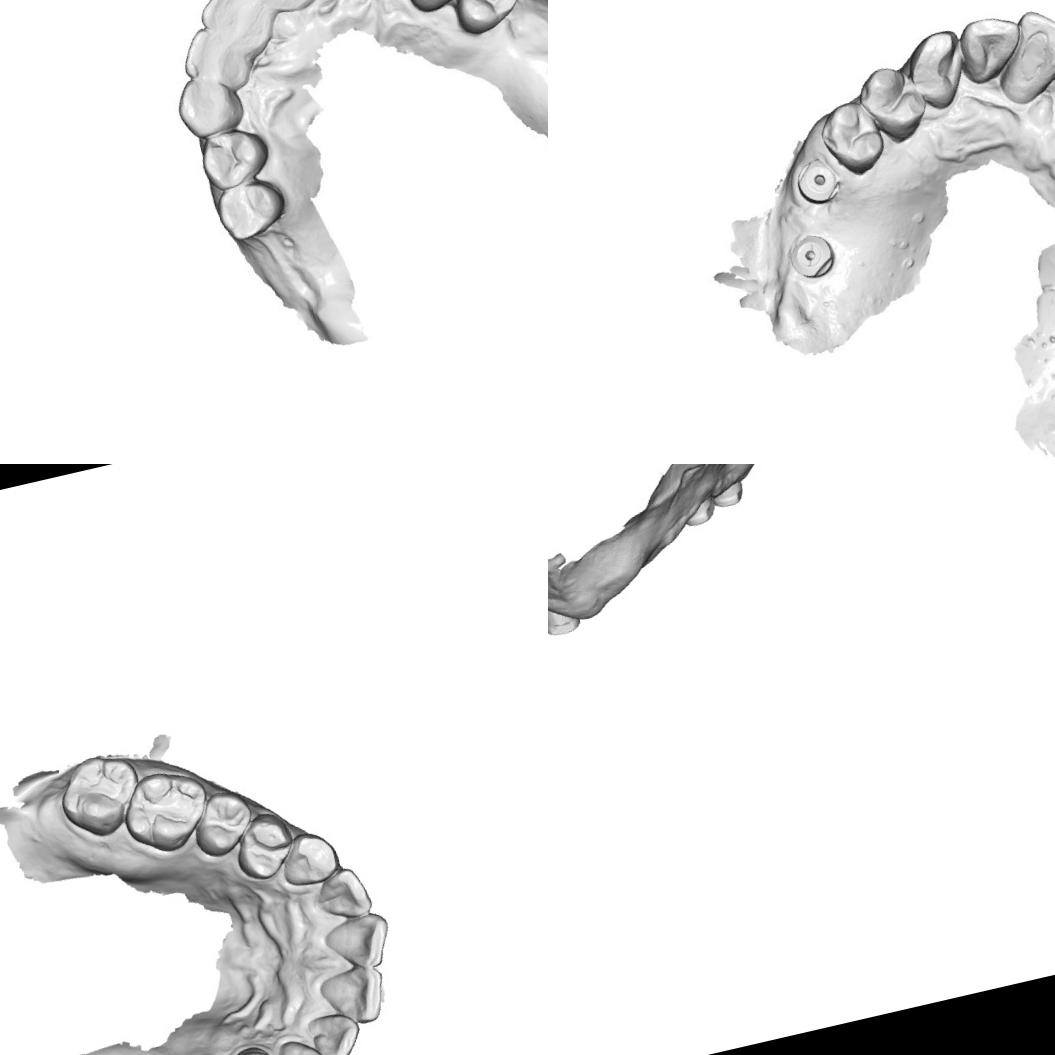canine: (906, 24, 977, 110), (175, 66, 248, 134), (274, 826, 344, 892), (272, 1032, 335, 1055)
implant: (790, 154, 840, 205), (548, 601, 583, 640), (680, 498, 719, 530), (710, 480, 747, 511)
implant_minus: (785, 227, 844, 283)
incisor: (988, 2, 1055, 106), (316, 960, 393, 1032), (319, 907, 397, 978), (956, 10, 1030, 84), (176, 24, 255, 93), (196, 0, 277, 53), (309, 863, 375, 926), (304, 1007, 368, 1055), (238, 0, 322, 16)
molar: (114, 762, 218, 861), (49, 746, 150, 845)
premolar: (815, 94, 892, 175), (195, 118, 276, 193), (185, 784, 260, 861), (226, 808, 300, 886), (862, 62, 930, 140), (215, 176, 292, 244), (448, 0, 523, 30)
